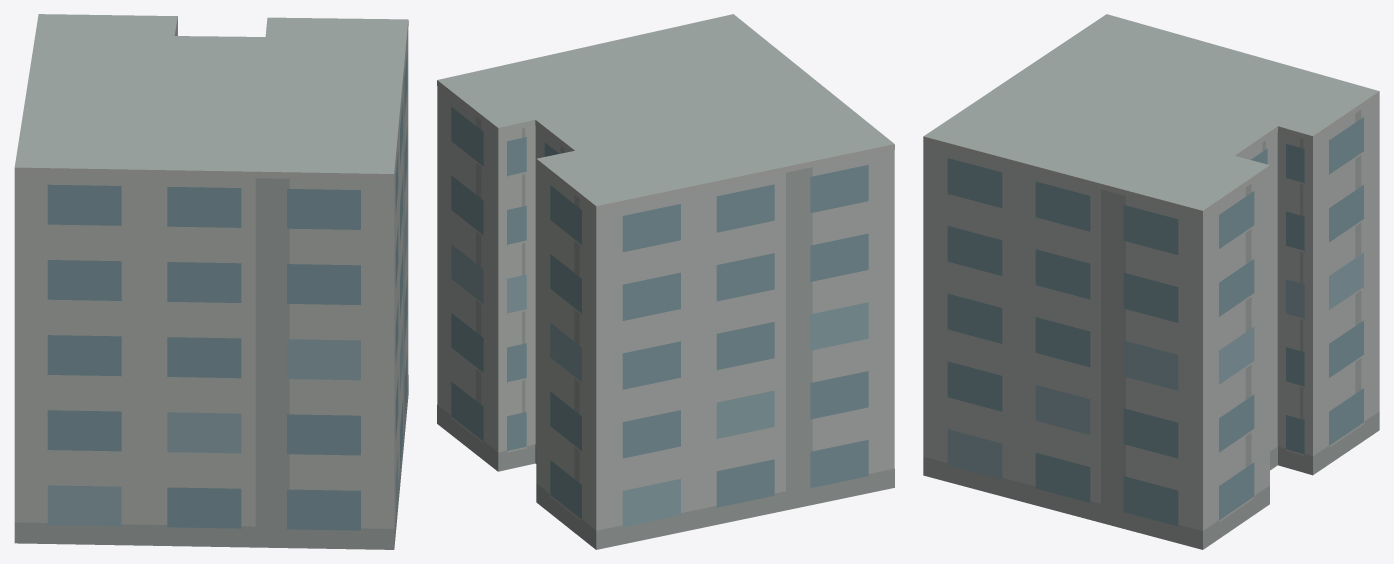
File: survey-upis-32988998.glb
3 renders of one model, left to right at view 1: azimuth 30°, elevation 25°; view 2: azimuth 150°, elevation 25°; view 3: azimuth 270°, elevation 25°, orthographic. The views are drawn at different scales.
Visible parts, largest first — view 1: survey-upis-32988998.tmp; view 2: survey-upis-32988998.tmp; view 3: survey-upis-32988998.tmp.
Part boxes in pixels (bbox=[...]): survey-upis-32988998.tmp: bbox=[14, 14, 408, 549]; survey-upis-32988998.tmp: bbox=[437, 14, 894, 549]; survey-upis-32988998.tmp: bbox=[923, 14, 1379, 549].
Bounding box in the file's own units: 17.56 × 14.1 × 17.21.
